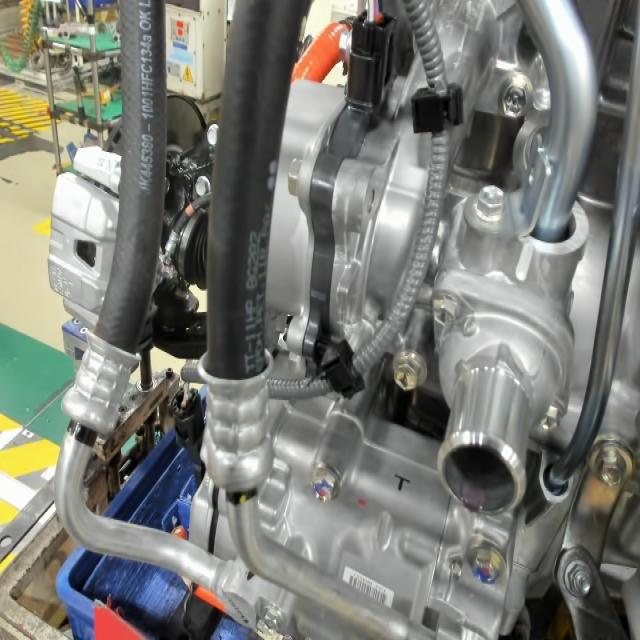Compressor-T: (388, 470, 416, 498)
